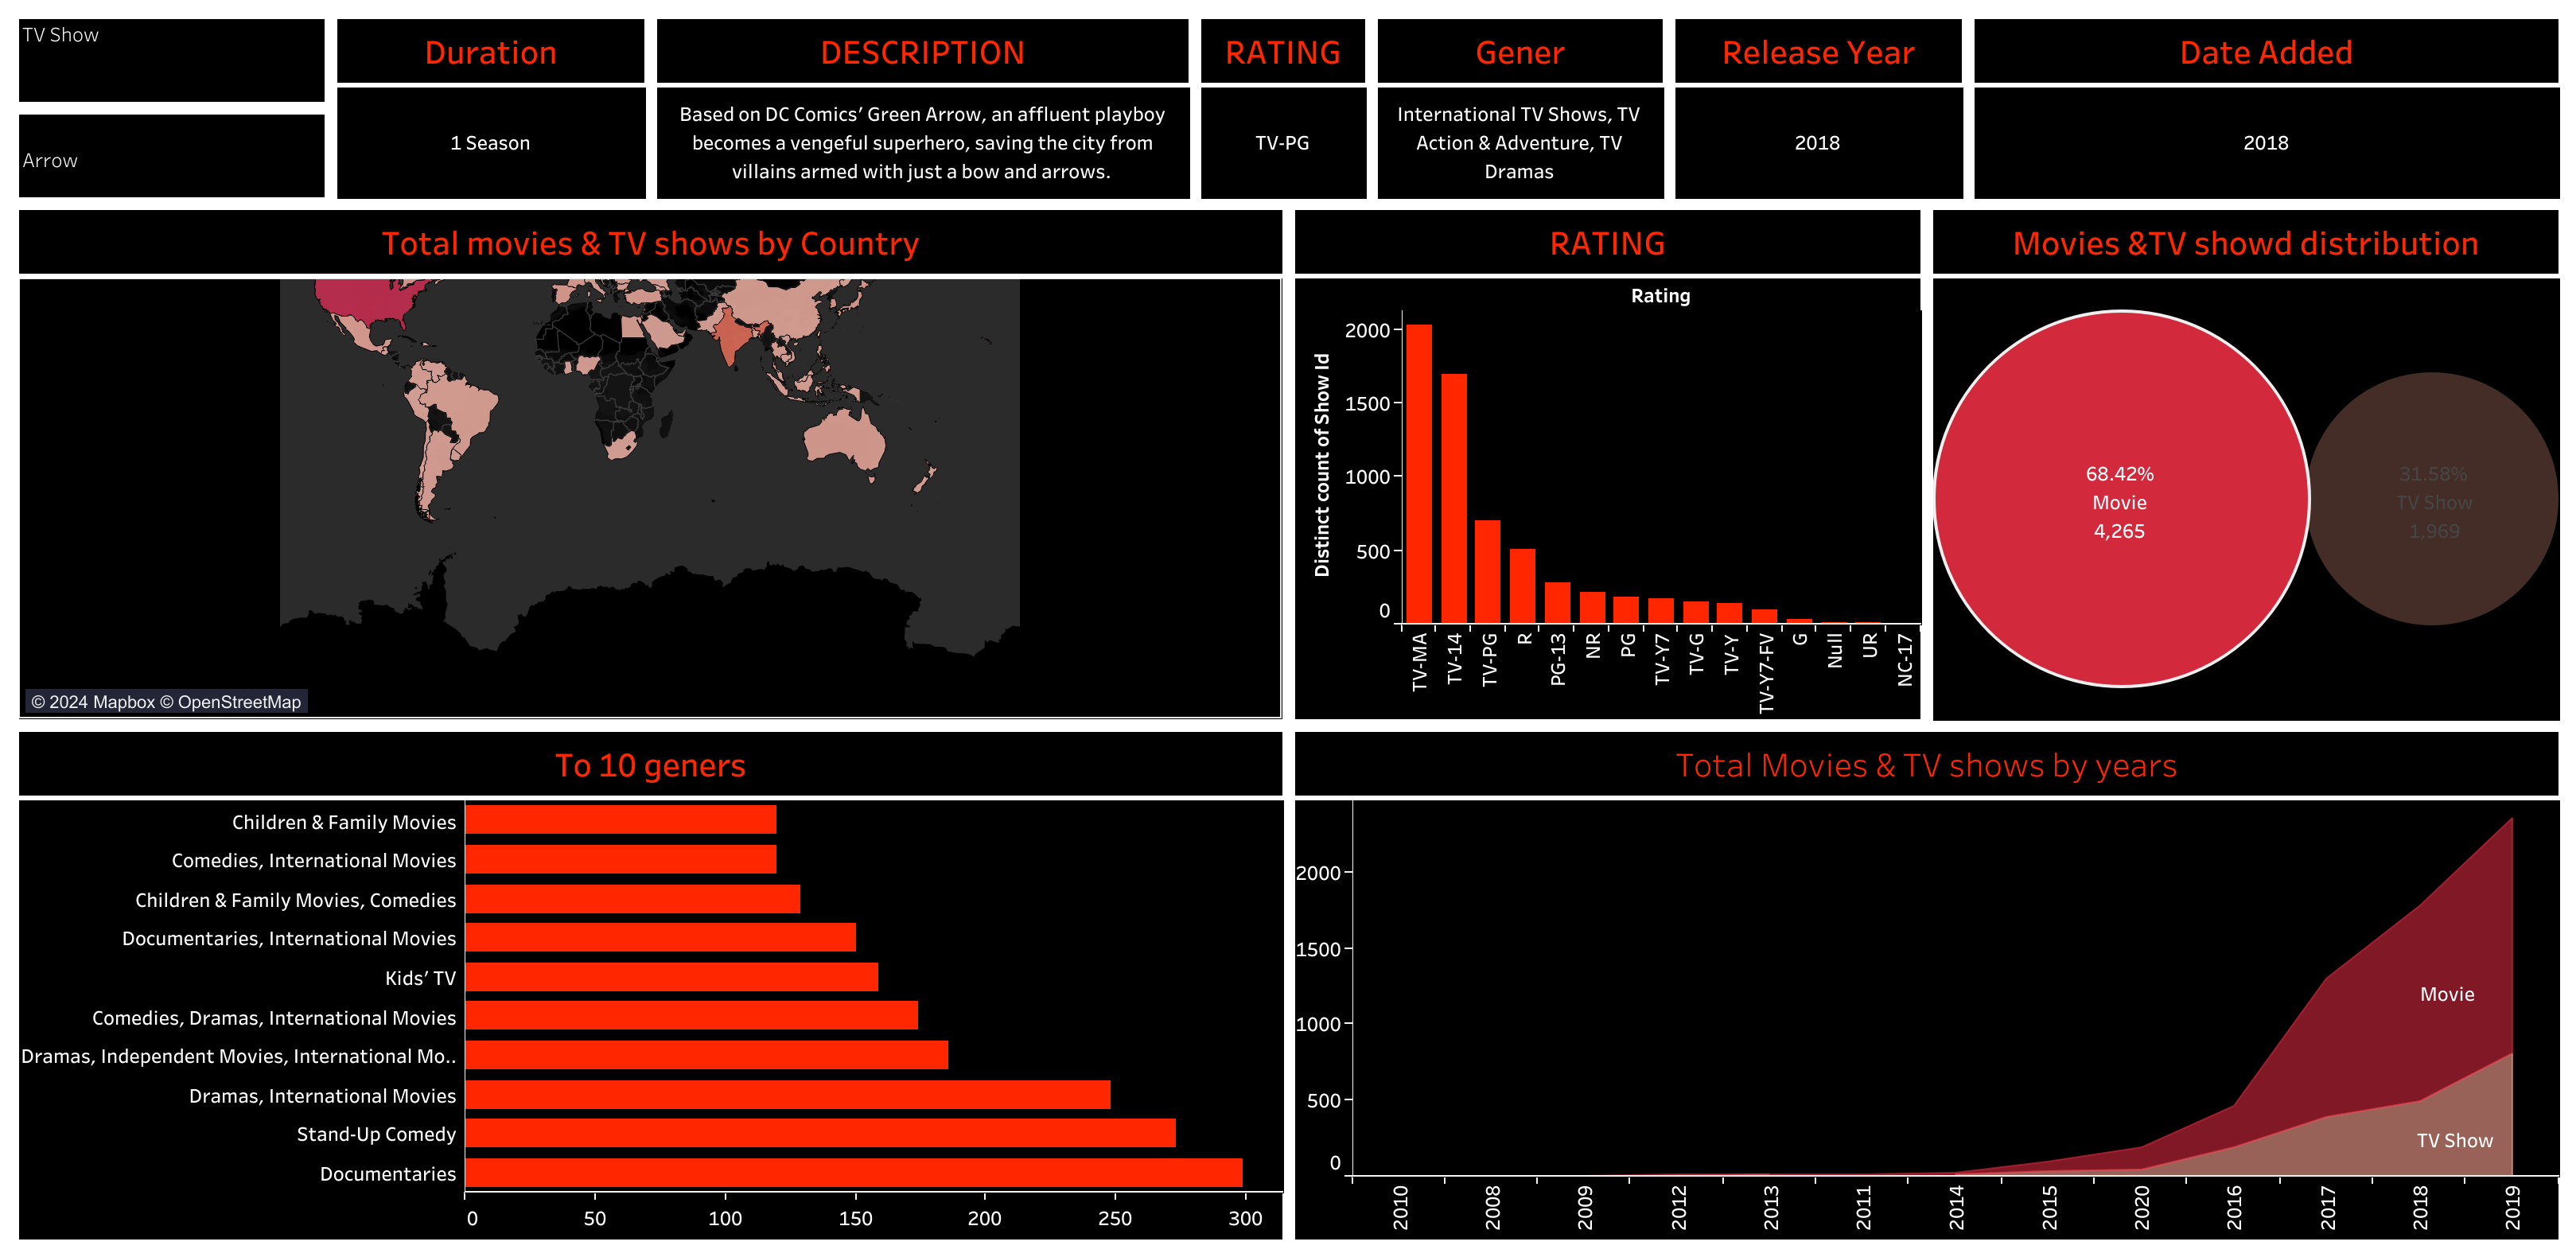

The page's visual inventory and layout, read from the dashboard file:
{"tool":"tableau","page":{"name":"Netflix","canvas":[1000,1000],"units":"permille","ordinal":0},"visuals":[{"type":"filter","title":"Description","param":"[federated.0m0zic71i66y0l11t5kc70ybmzjq].[none:type:nk]","box":[5.6,10,123.6,76]},{"type":"worksheet","title":"Duration","mark":"Automatic","box":[129.1,10,123.6,152.1]},{"type":"worksheet","title":"Description","mark":"Automatic","box":[252.8,10,210.8,152.1]},{"type":"worksheet","title":"Ratingg","mark":"Automatic","box":[463.6,10,68.4,152.1]},{"type":"worksheet","title":"Gener","mark":"Automatic","box":[532,10,115.6,152.1]},{"type":"worksheet","title":"Release Year","mark":"Automatic","box":[647.6,10,115.6,152.1]},{"type":"worksheet","title":"Date added","mark":"Automatic","box":[763.2,10,231.2,152.1]},{"type":"filter","title":"Description","param":"[federated.0m0zic71i66y0l11t5kc70ybmzjq].[none:title:nk]","box":[5.6,86.1,123.6,76]},{"type":"worksheet","title":"Total movies & TV shows by Country","mark":"Multipolygon","box":[5.6,162.1,494.4,413.9]},{"type":"worksheet","title":"Rating","mark":"Automatic","rows":["show_id"],"cols":["rating"],"box":[499.9,162.1,247.3,413.9]},{"type":"worksheet","title":"Movies &TV showd distribution","mark":"Circle","box":[747.2,162.1,247.3,413.9]},{"type":"worksheet","title":"To 10 geners","mark":"Automatic","rows":["listed_in"],"cols":["show_id"],"box":[5.6,576,494.4,414]},{"type":"worksheet","title":"Total Movies & TV shows by years","mark":"Area","rows":["show_id"],"cols":["date_added"],"box":[499.9,576,494.5,414]}]}

Visuals, with their boxes on the dashboard's canvas, which has no fixed pixel size, in thousandths of its width and height (x1, y1, x2, y2). These are canvas units, not pixel positions in the 2576x1257 screenshot, which may show the page scaled, cropped or inside an application window:
"Description" filter: bbox=[6, 10, 129, 86]
"Duration" worksheet: bbox=[129, 10, 253, 162]
"Description" worksheet: bbox=[253, 10, 464, 162]
"Ratingg" worksheet: bbox=[464, 10, 532, 162]
"Gener" worksheet: bbox=[532, 10, 648, 162]
"Release Year" worksheet: bbox=[648, 10, 763, 162]
"Date added" worksheet: bbox=[763, 10, 994, 162]
"Description" filter: bbox=[6, 86, 129, 162]
"Total movies & TV shows by Country" worksheet (Multipolygon marks): bbox=[6, 162, 500, 576]
"Rating" worksheet: bbox=[500, 162, 747, 576]
"Movies &TV showd distribution" worksheet (Circle marks): bbox=[747, 162, 994, 576]
"To 10 geners" worksheet: bbox=[6, 576, 500, 990]
"Total Movies & TV shows by years" worksheet (Area marks): bbox=[500, 576, 994, 990]
